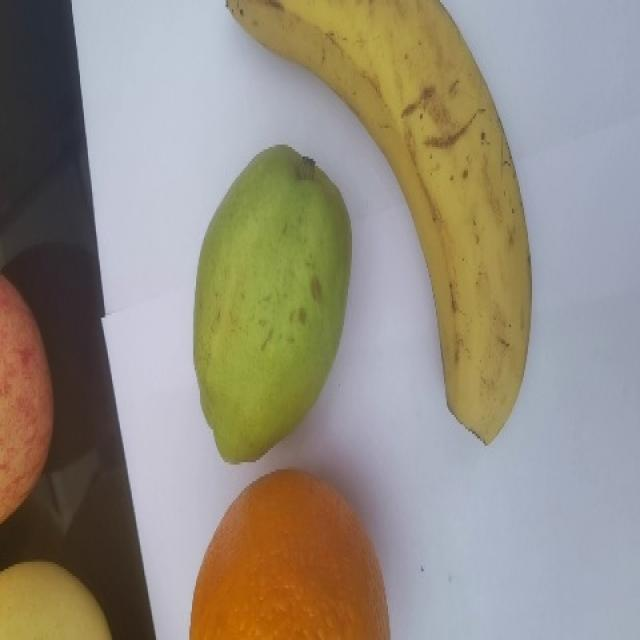Apple: (0, 272, 54, 526)
Banana: (224, 0, 533, 445)
Orange: (188, 467, 390, 639)
